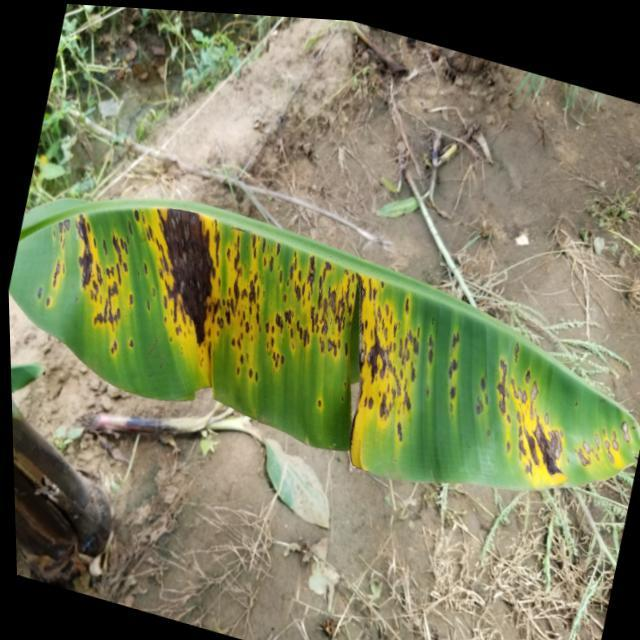Early_rust: (12, 163, 640, 532)
